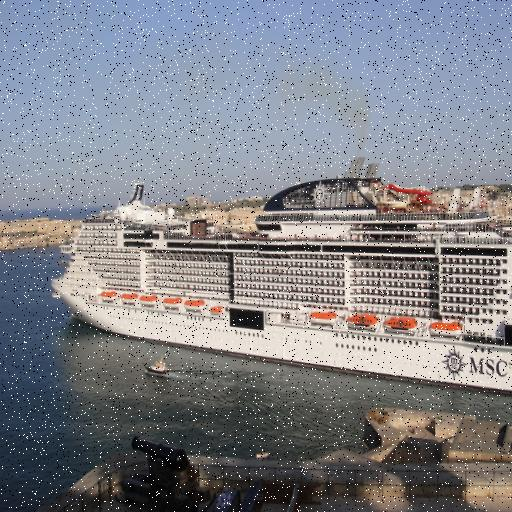cruises: (49, 155, 512, 406)
